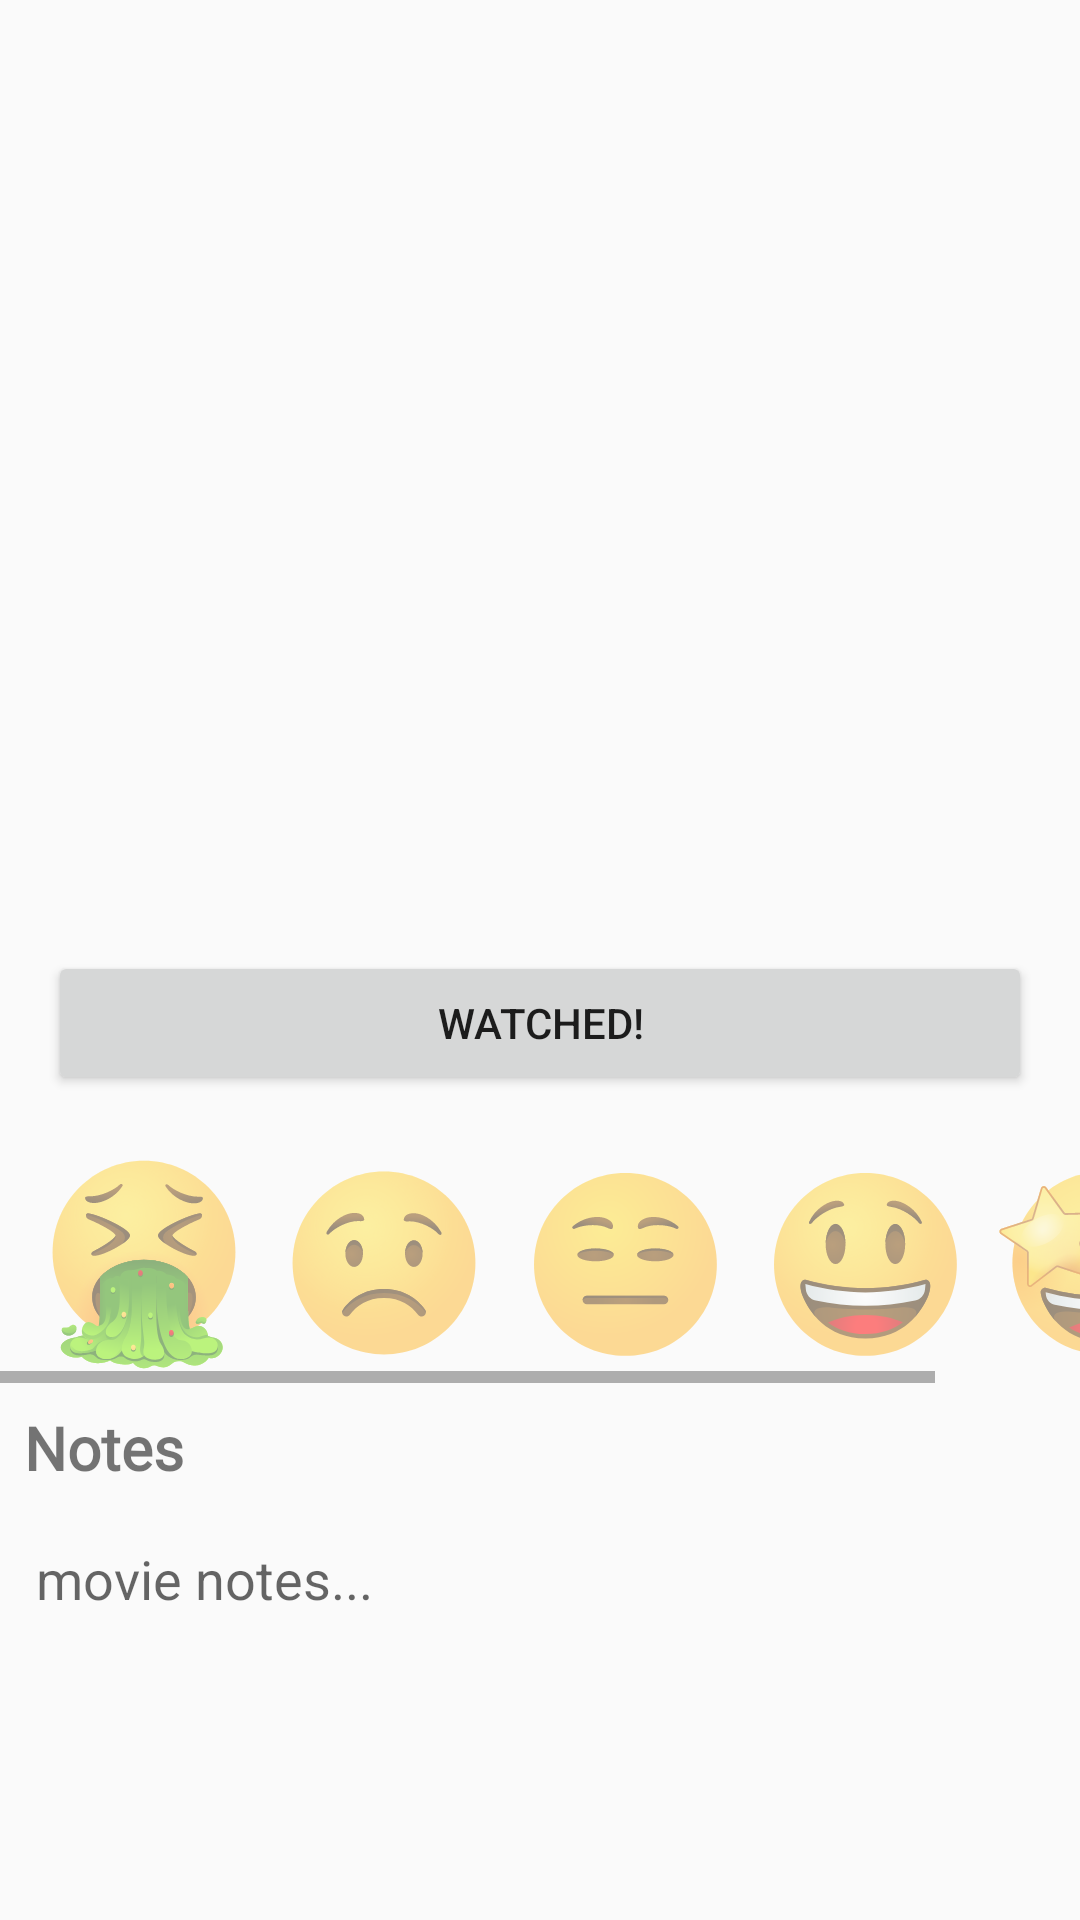

Icon bounding boxes for this 1080 × 1920 phone screenshot, format (x1, y1, x2, y2):
four star: (774, 1173, 957, 1356)
one star: (52, 1160, 236, 1369)
three star: (534, 1173, 717, 1356)
two star: (292, 1171, 476, 1355)
